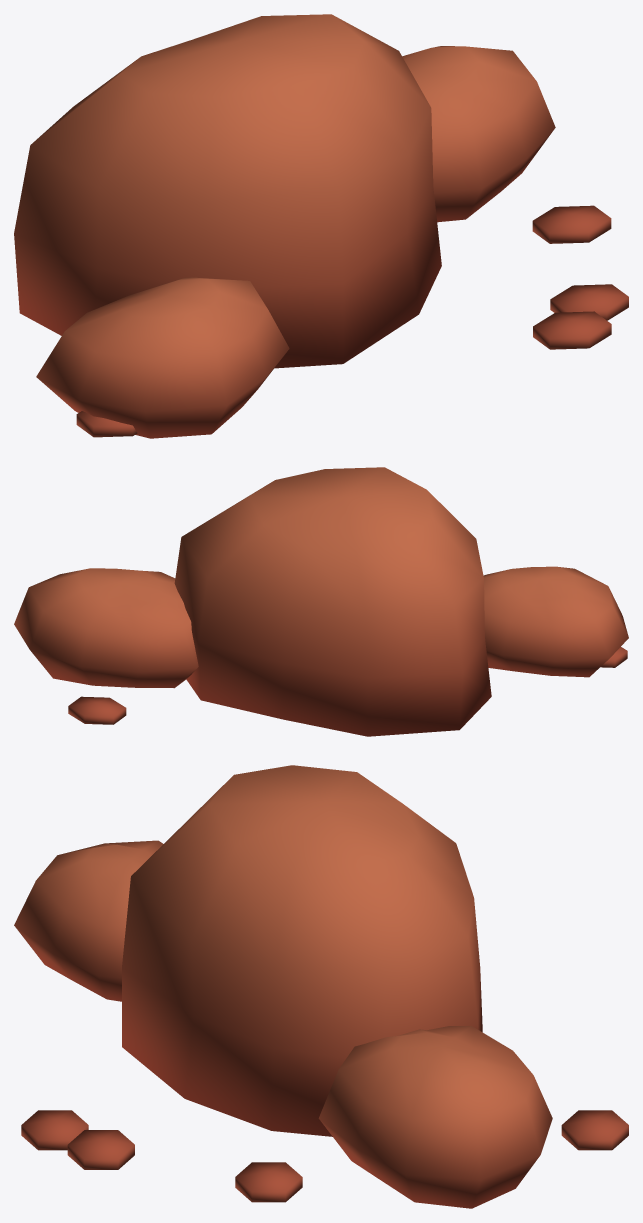
File: ing_red_ochre.glb
3 views of the same model, one above another, from view 1: azimuth 30°, elevation 25°; view 2: azimuth 150°, elevation 25°; view 3: azimuth 270°, elevation 25° (orthographic). The views are drawn at different scales.
Parts seen in each view (by area): view 1: ing_red_ochre; view 2: ing_red_ochre; view 3: ing_red_ochre.
Part boxes in pixels (box(x1,y1,x2,y2)): ing_red_ochre: box(14, 14, 628, 438); ing_red_ochre: box(14, 467, 628, 736); ing_red_ochre: box(14, 765, 628, 1208).
Size of what is drawn, in the model's own units: 0.3052 by 0.111 by 0.2532.
